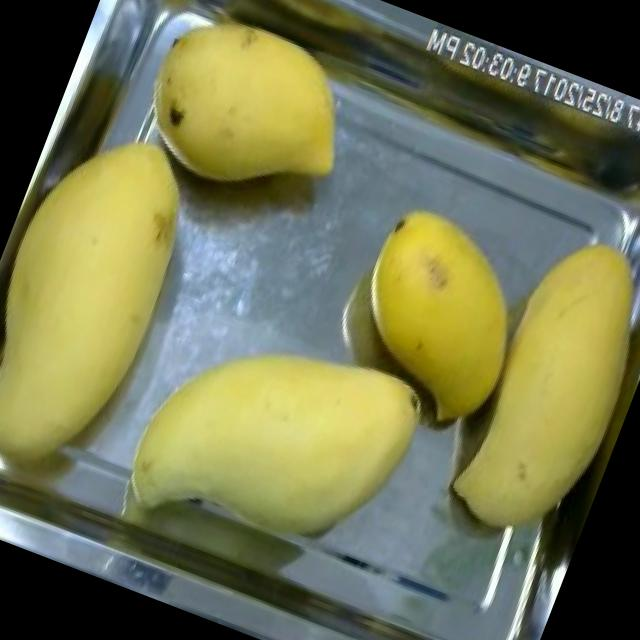fruit: (0, 92, 244, 527), (110, 287, 447, 588), (425, 206, 640, 569), (91, 0, 397, 246), (316, 188, 562, 450)
